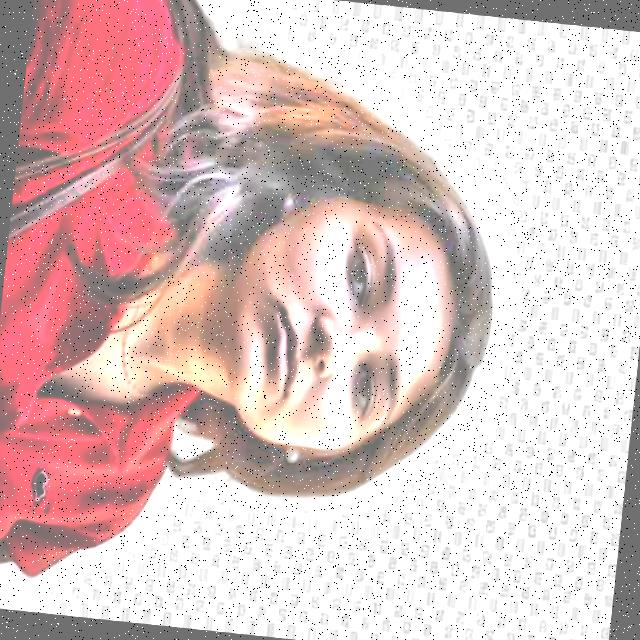sad: (185, 120, 517, 544)
